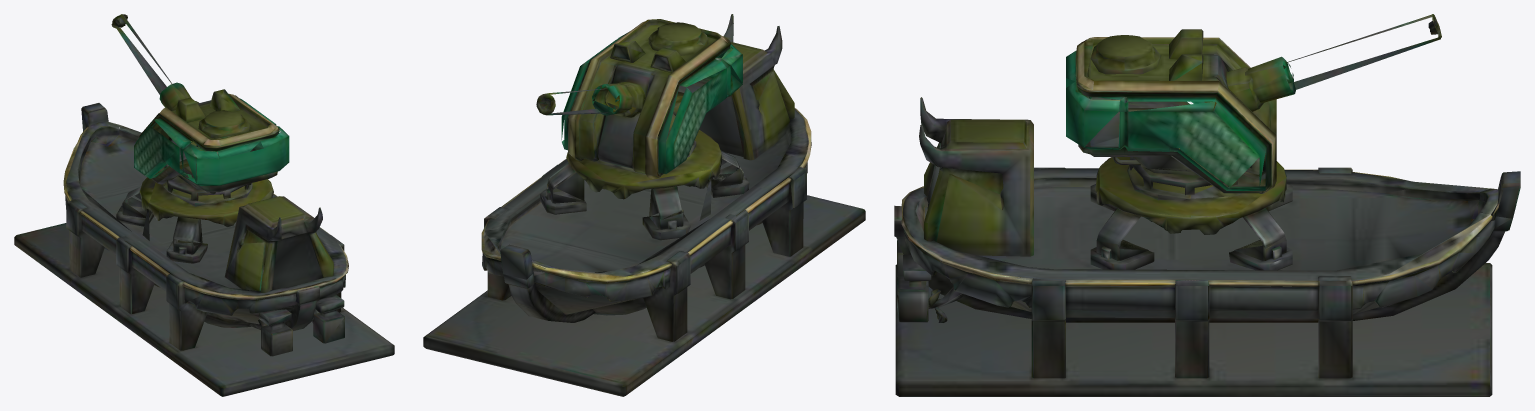
The model's file is gun_wharf.glb.
3 views of the same model, side by side, from view 1: azimuth 30°, elevation 25°; view 2: azimuth 150°, elevation 25°; view 3: azimuth 270°, elevation 25° (orthographic). The views are drawn at different scales.
Parts seen in each view (by area): view 1: Body, Turret, Barrel; view 2: Body, Turret, Barrel; view 3: Body, Turret, Barrel.
Part boxes in pixels (bbox=[...]): Body: bbox=[14, 14, 394, 396]; Turret: bbox=[125, 82, 289, 243]; Barrel: bbox=[81, 28, 166, 140]; Body: bbox=[423, 14, 865, 396]; Turret: bbox=[547, 19, 742, 219]; Barrel: bbox=[500, 108, 613, 279]; Body: bbox=[894, 14, 1512, 396]; Turret: bbox=[1066, 29, 1295, 248]; Barrel: bbox=[1289, 37, 1520, 218].
Bounding box in the file's own units: 6.44 × 7.97 × 14.
Materials: 2 (2 with a texture image).
